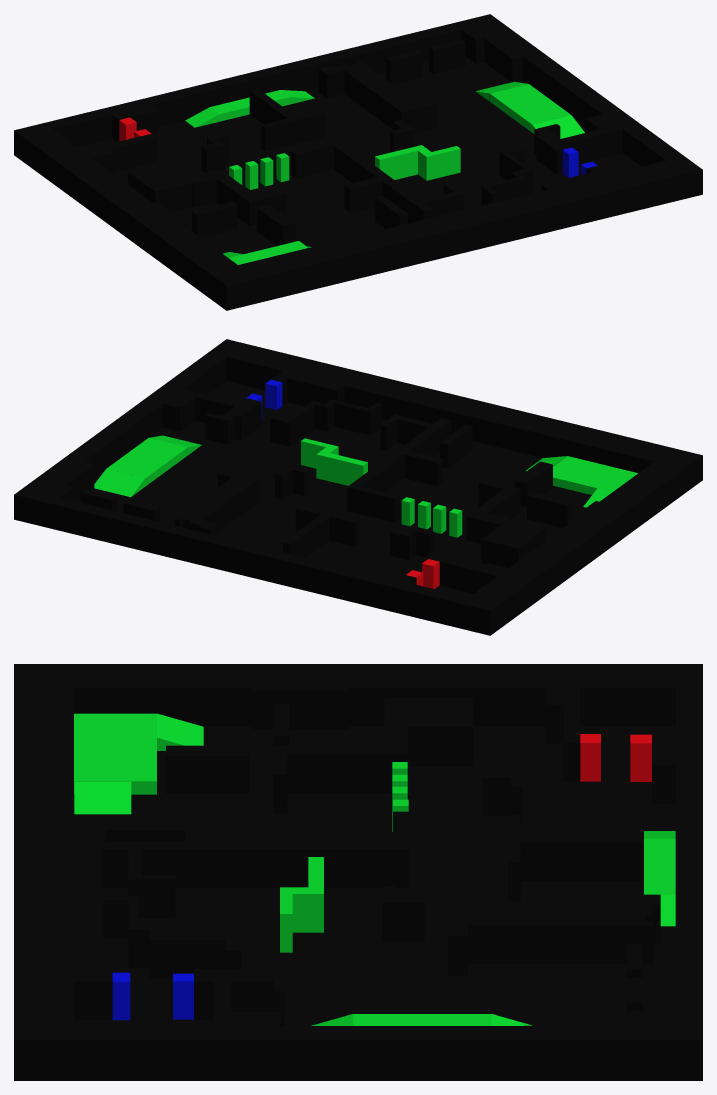
Rendered from Nivel.fbx.
3 views of the same model, one above another, from view 1: azimuth 30°, elevation 25°; view 2: azimuth 150°, elevation 25°; view 3: azimuth 270°, elevation 25° (orthographic). The views are drawn at different scales.
Visible parts, largest first — view 1: Nivel; view 2: Nivel; view 3: Nivel.
Boxes of the visible parts, x1,y1,x2,y2 form: Nivel: [14, 14, 702, 310]; Nivel: [14, 339, 702, 635]; Nivel: [14, 664, 702, 1080].
Bounding box in the file's own units: 22975 × 1147 × 17763.
